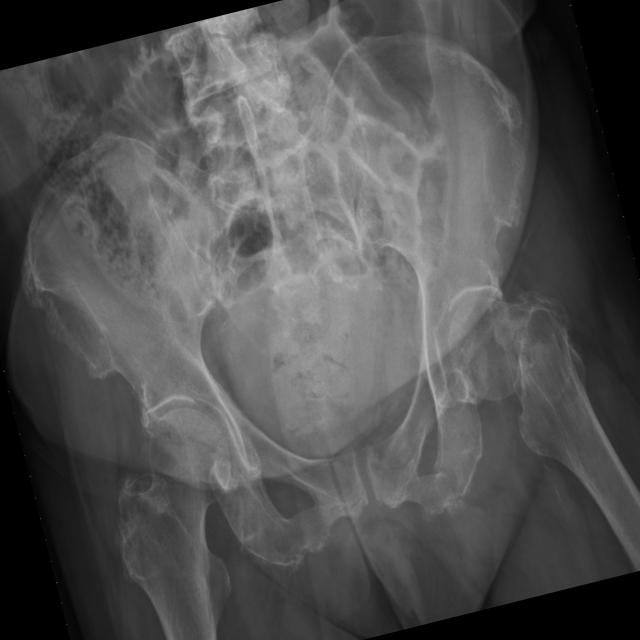left-neck: (495, 289, 627, 503), (448, 296, 519, 400)
normal-right: (117, 406, 231, 640)
